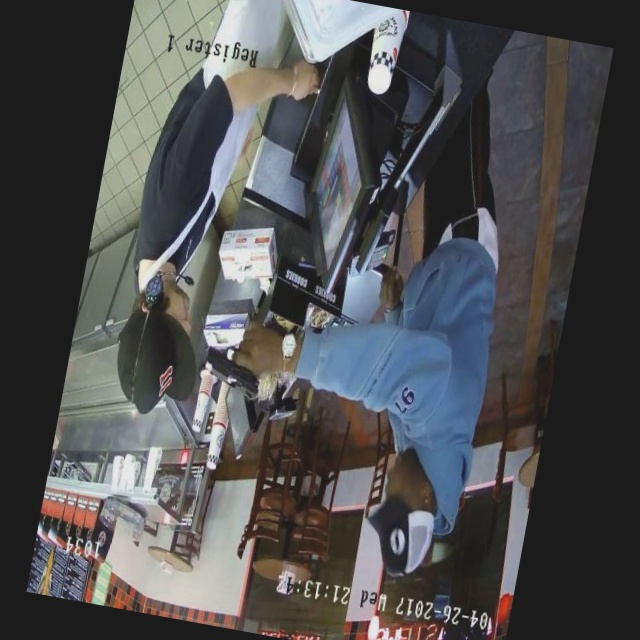gun: (190, 318, 280, 418)
